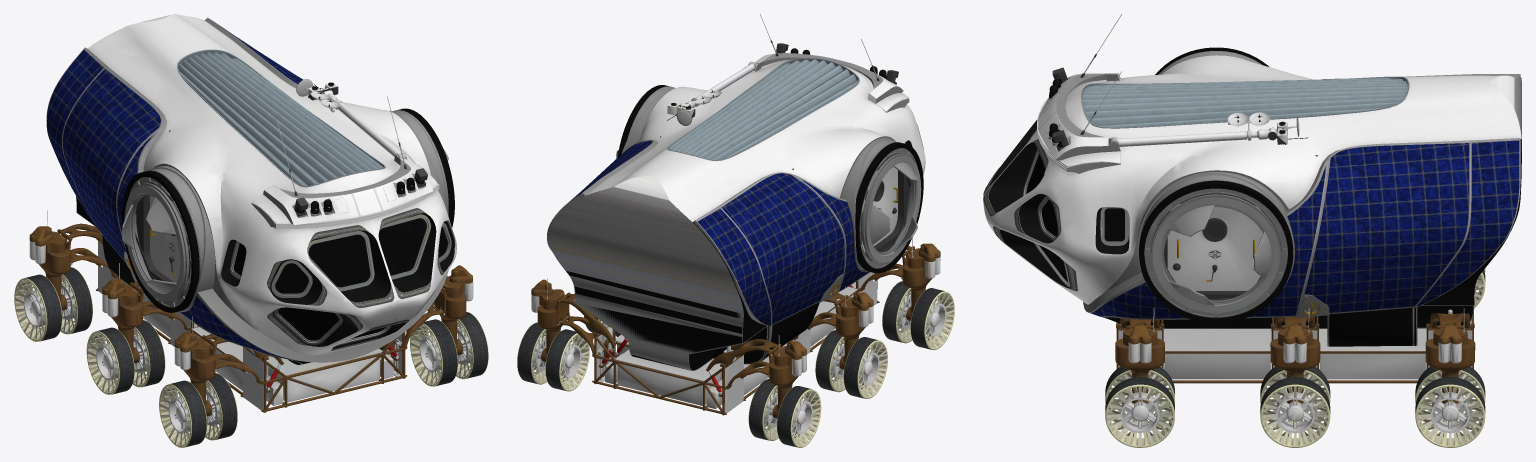
File: sev.glb
The picture shows the model from 3 angles, left to right: view 1: azimuth 30°, elevation 25°; view 2: azimuth 150°, elevation 25°; view 3: azimuth 270°, elevation 25°; orthographic projection. The views are drawn at different scales.
Parts seen in each view (by area): view 1: MMSEV; view 2: MMSEV; view 3: MMSEV.
Part boxes in pixels (x1=…): MMSEV: x1=14, y1=14, x2=488, y2=447; MMSEV: x1=517, y1=14, x2=954, y2=447; MMSEV: x1=983, y1=14, x2=1521, y2=447.
Bounding box in the file's own units: 4.04 × 3.97 × 5.91.
Materials: 1 (1 with a texture image).
